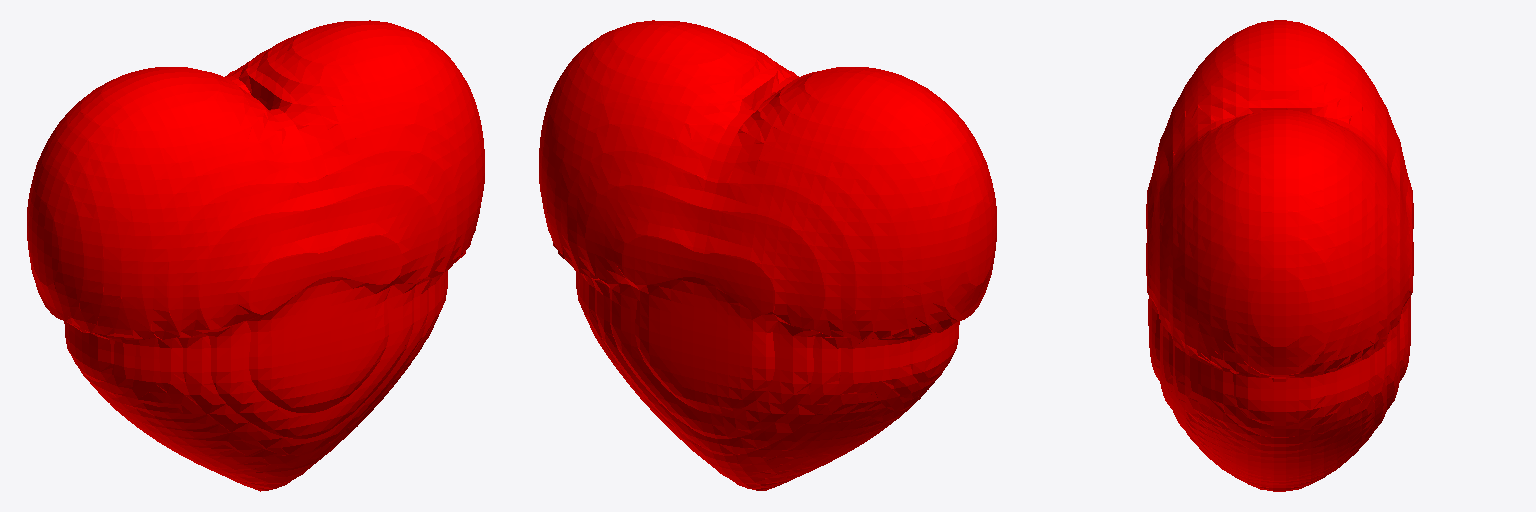
URDF robot description (heart):
<?xml version="1.0"?>
<robot name="heart">
  <link name="base_link">
    <inertial>
      <mass value="5.0"/>
      <origin xyz="0 0 0" rpy="0 0 0"/>
      <inertia ixx="0.1" ixy="0" ixz="0" iyy="0.1" iyz="0" izz="0.1"/>
    </inertial>
    <visual>
      <origin xyz="0 0 0" rpy="1.57 0 0"/>
      <geometry>
        <mesh filename="heart2_7.stl" scale="1 1 1"/>
      </geometry>
      <material name="red">
        <color rgba="1 0 0 1"/>
      </material>
    </visual>
    <collision>
      <origin xyz="0 0 0" rpy="1.57 0 0"/>
      <geometry>
        <mesh filename="heart2_7.stl" scale="1 1 1"/>
      </geometry>
    </collision>
  </link>
</robot>

--- Render facts (derived) ---
3 views of the same robot in one strip: view 1: azimuth 30°, elevation 25°; view 2: azimuth 150°, elevation 25°; view 3: azimuth 270°, elevation 25° (orthographic).
Model heart with 1 links and 0 joints (none), rooted at base_link, posed all joints at 0.
Links seen in each view (by area): view 1: base_link; view 2: base_link; view 3: base_link.
Boxes of the visible links, left/top/right/bottom form: base_link: left=27, top=20, right=484, bottom=491; base_link: left=539, top=20, right=996, bottom=490; base_link: left=1146, top=20, right=1413, bottom=491.
Size in the robot's own frame: 0.4531 by 0.2557 by 0.4326 metres.
1 mesh visuals loaded from 1 distinct referenced files (1 binary STL).